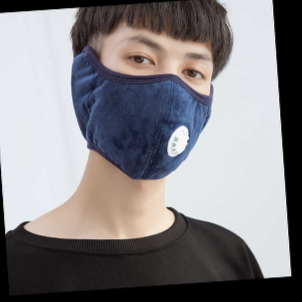with_mask: (97, 29, 215, 184)
